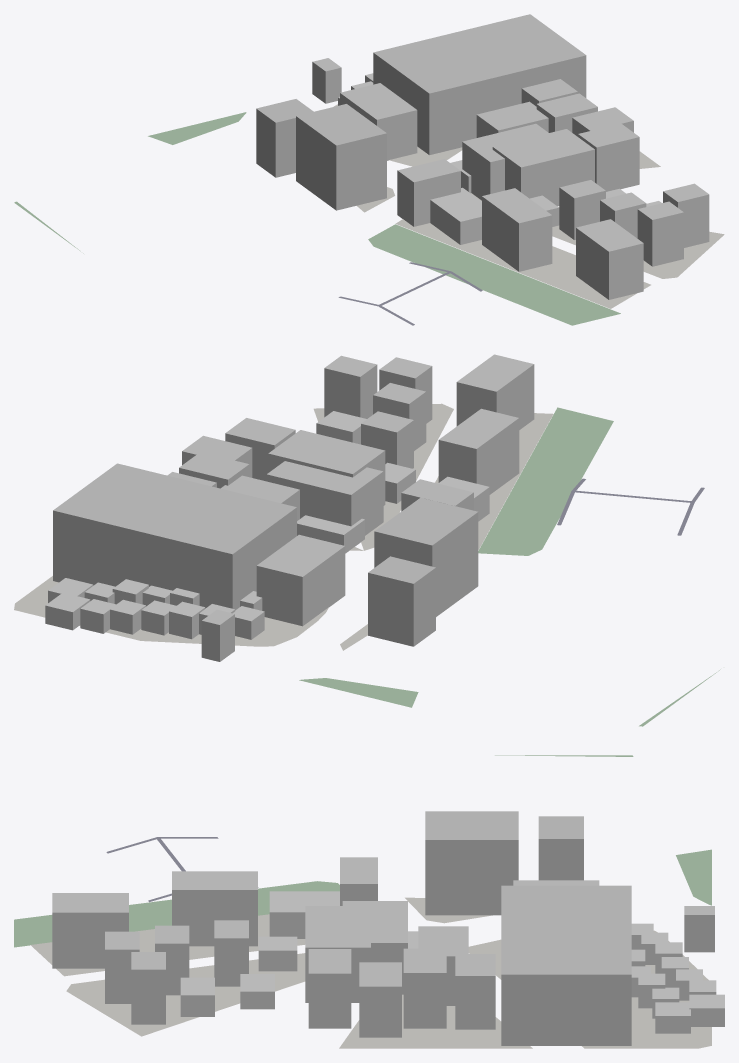
File: 107_108_mid.glb
The picture shows the model from 3 angles, top to bottom: view 1: azimuth 30°, elevation 25°; view 2: azimuth 150°, elevation 25°; view 3: azimuth 270°, elevation 25°; orthographic projection. The views are drawn at different scales.
Size of the model in its own units: 500 by 60.1 by 509.
